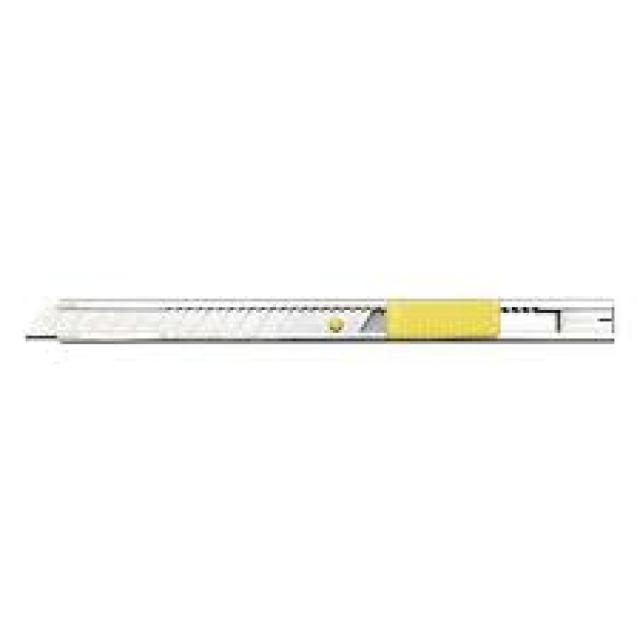cutter: (13, 282, 621, 354)
